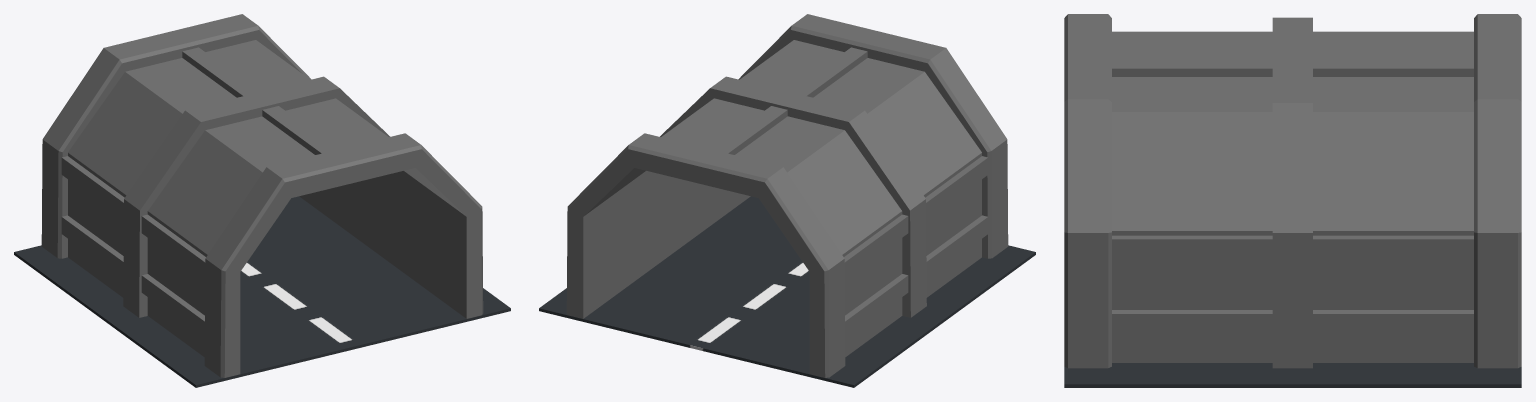
File: kartkids_base_trk_430_tun_closed_mid_1x1.gltf
The picture shows the model from 3 angles, left to right: view 1: azimuth 30°, elevation 25°; view 2: azimuth 150°, elevation 25°; view 3: azimuth 270°, elevation 25°; orthographic projection. The views are drawn at different scales.
Visible parts, largest first — view 1: kartkids_base_trk_430_tun_closed_mid_1x1, kartkids_base_trk_430_tun_closed_mid_1x1.001; view 2: kartkids_base_trk_430_tun_closed_mid_1x1, kartkids_base_trk_430_tun_closed_mid_1x1.001; view 3: kartkids_base_trk_430_tun_closed_mid_1x1, kartkids_base_trk_430_tun_closed_mid_1x1.001.
Boxes of the visible parts, x1,y1,x2,y2 form: kartkids_base_trk_430_tun_closed_mid_1x1: [41, 14, 483, 377]; kartkids_base_trk_430_tun_closed_mid_1x1.001: [14, 196, 510, 387]; kartkids_base_trk_430_tun_closed_mid_1x1: [566, 14, 1008, 377]; kartkids_base_trk_430_tun_closed_mid_1x1.001: [539, 196, 1035, 387]; kartkids_base_trk_430_tun_closed_mid_1x1: [1064, 14, 1521, 368]; kartkids_base_trk_430_tun_closed_mid_1x1.001: [1064, 363, 1521, 387].
Size of the model in its own units: 10 by 5.66 by 10.
2 materials, 1 textured.
